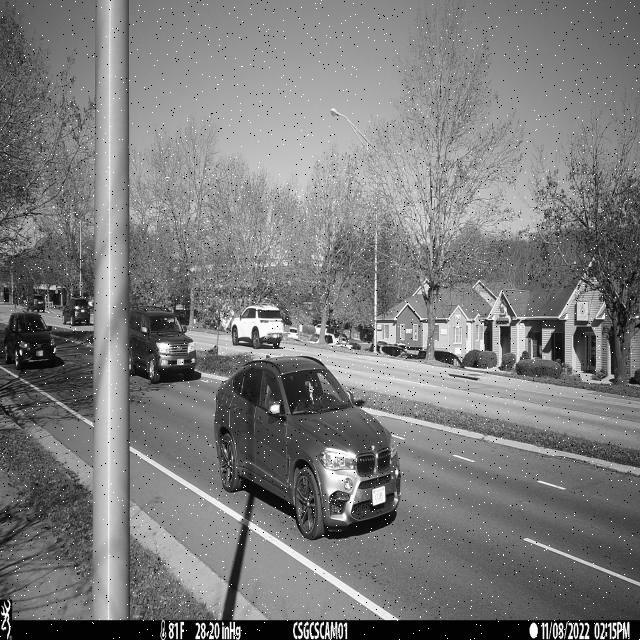SUV: (213, 354, 401, 541)
